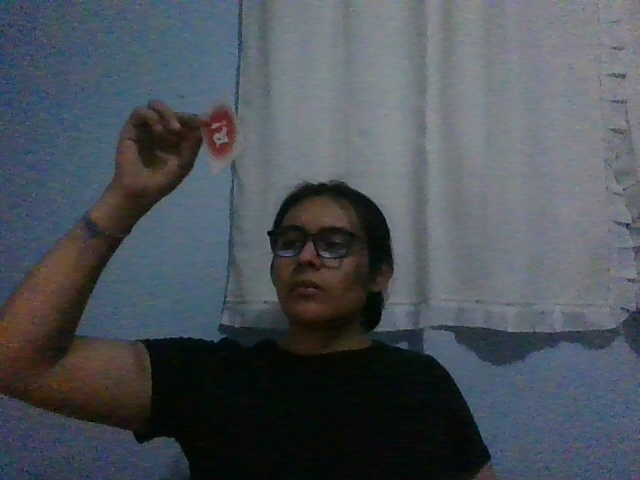tarjeta: (200, 94, 245, 175)
